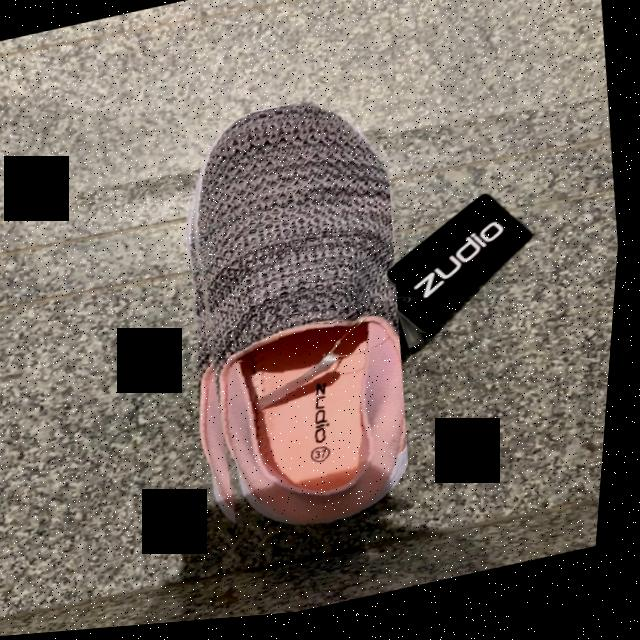shoe: (199, 109, 415, 535)
